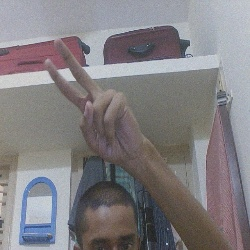hand: (25, 38, 155, 170)
